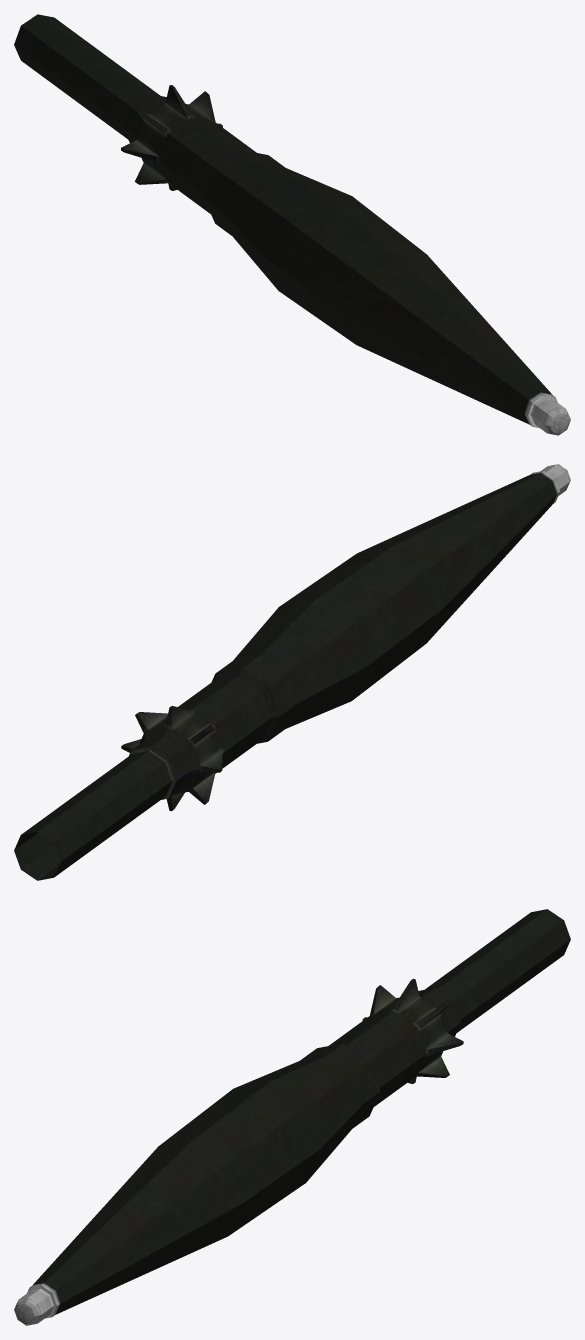
The model's file is rpg_warhead.glb.
3 views of the same model, one above another, from view 1: azimuth 30°, elevation 25°; view 2: azimuth 150°, elevation 25°; view 3: azimuth 330°, elevation 25° (orthographic).
Visible parts, largest first — view 1: weapon; view 2: weapon; view 3: weapon.
Part boxes in pixels (x1=…): weapon: x1=14, y1=14, x2=570, y2=435; weapon: x1=14, y1=464, x2=570, y2=880; weapon: x1=14, y1=909, x2=570, y2=1325.
Bounding box in the file's own units: 0.051 × 0.051 × 0.4461.
1 material, 1 textured.
